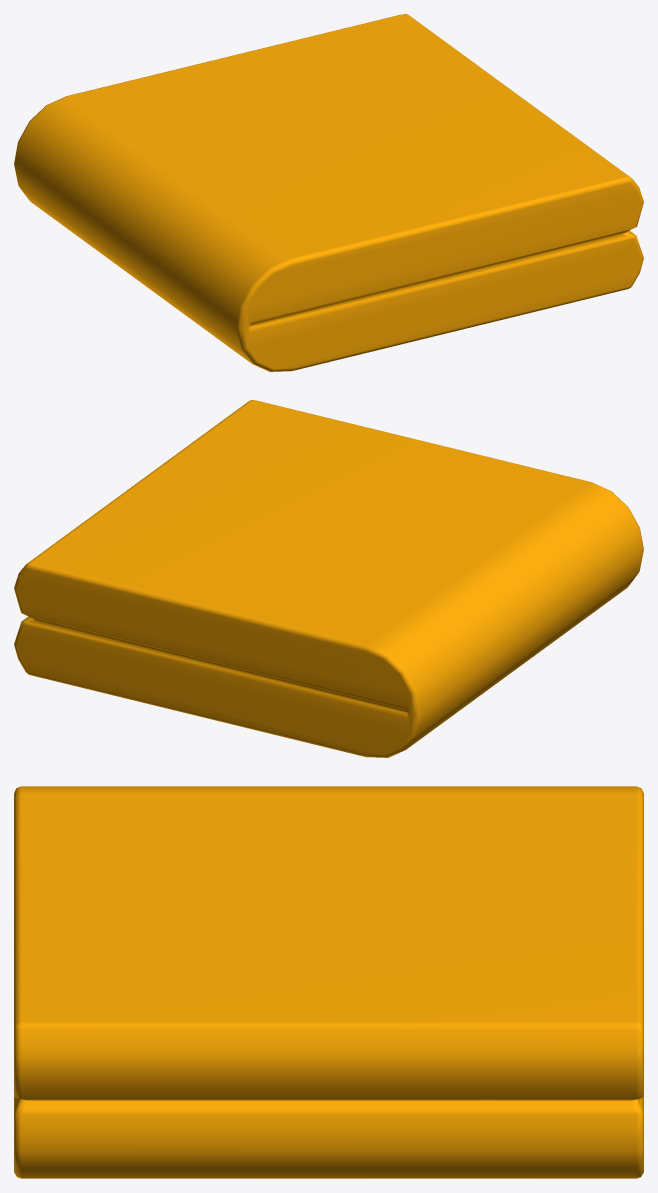
Rendered from Public_19_Fabric_2.glb.
3 renders of one model, top to bottom at view 1: azimuth 30°, elevation 25°; view 2: azimuth 150°, elevation 25°; view 3: azimuth 270°, elevation 25°, orthographic. The views are drawn at different scales.
Visible parts, largest first — view 1: Public_19_Fabric_2; view 2: Public_19_Fabric_2; view 3: Public_19_Fabric_2.
Boxes of the visible parts, left/top/right/bottom form: Public_19_Fabric_2: left=14, top=14, right=643, bottom=371; Public_19_Fabric_2: left=14, top=400, right=643, bottom=757; Public_19_Fabric_2: left=14, top=786, right=643, bottom=1178.
Bounding box in the file's own units: 0.9385 × 0.2481 × 0.9069.
1 material, 1 textured.
